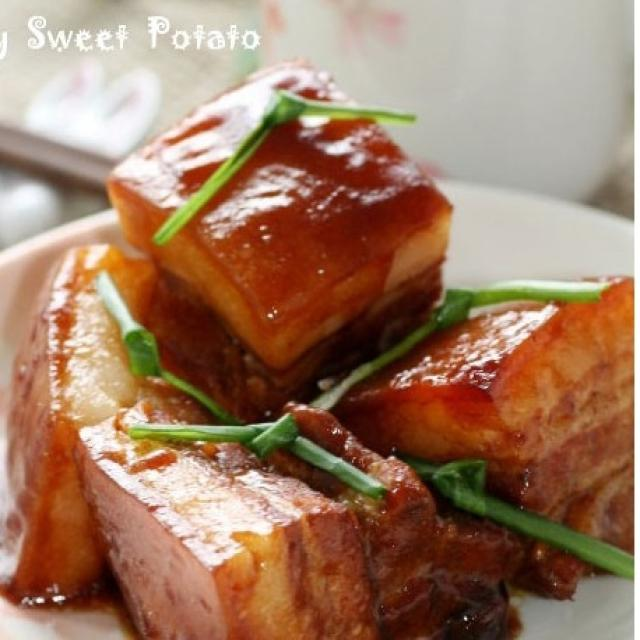牛肉菜式: (38, 63, 622, 615)
